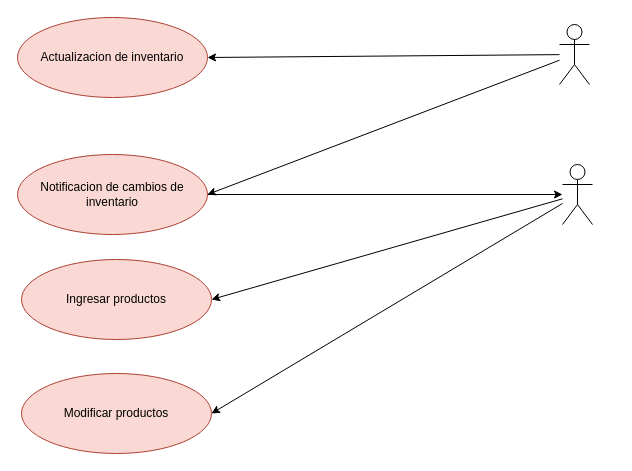
Image size: 632x471. Some labels were removed from this diagram. The shapes that lost their labels are listed below. From the top down, each one's box as (x1, y1, x2, y2) in pixels, then its label:
(558, 24, 590, 84): Sistema
(562, 164, 592, 224): Administrador
